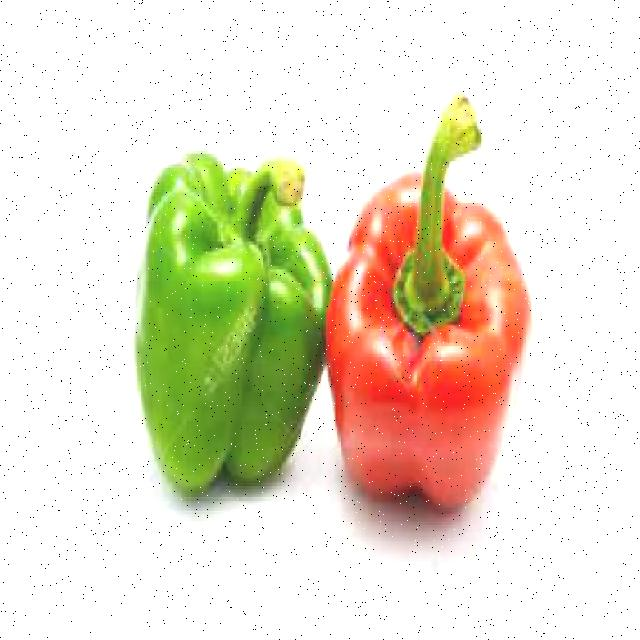Bell Pepper: (327, 87, 556, 521), (116, 96, 321, 504)
